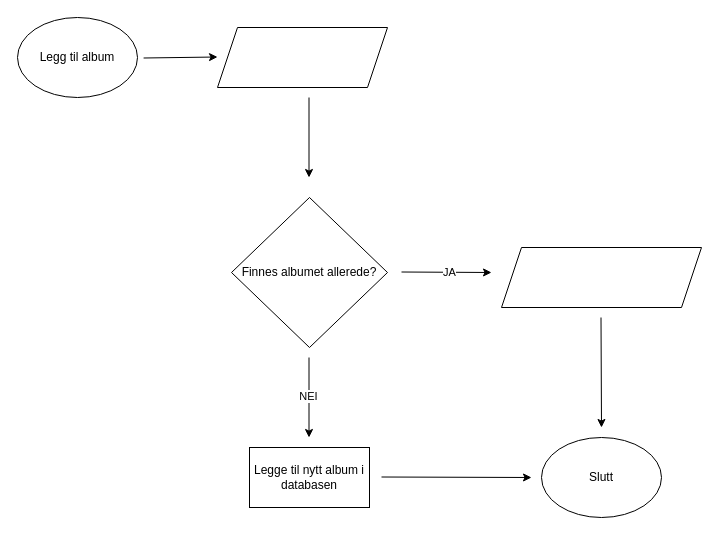
This 719x535 diagram has some shape labels left out. Each missing label, with the centre of its shape:
"Input: Fyll inn alle felter" goes at (302,57).
"Output: Popup med beskjed" goes at (601,277).
